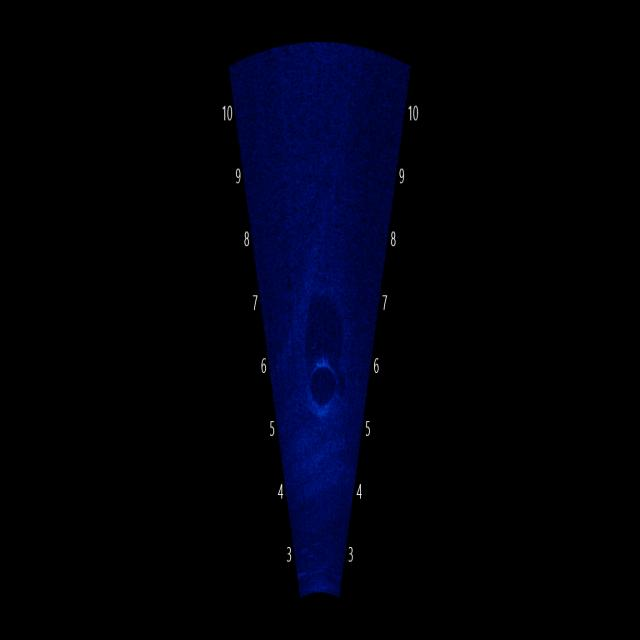circle: (303, 352, 344, 419)
